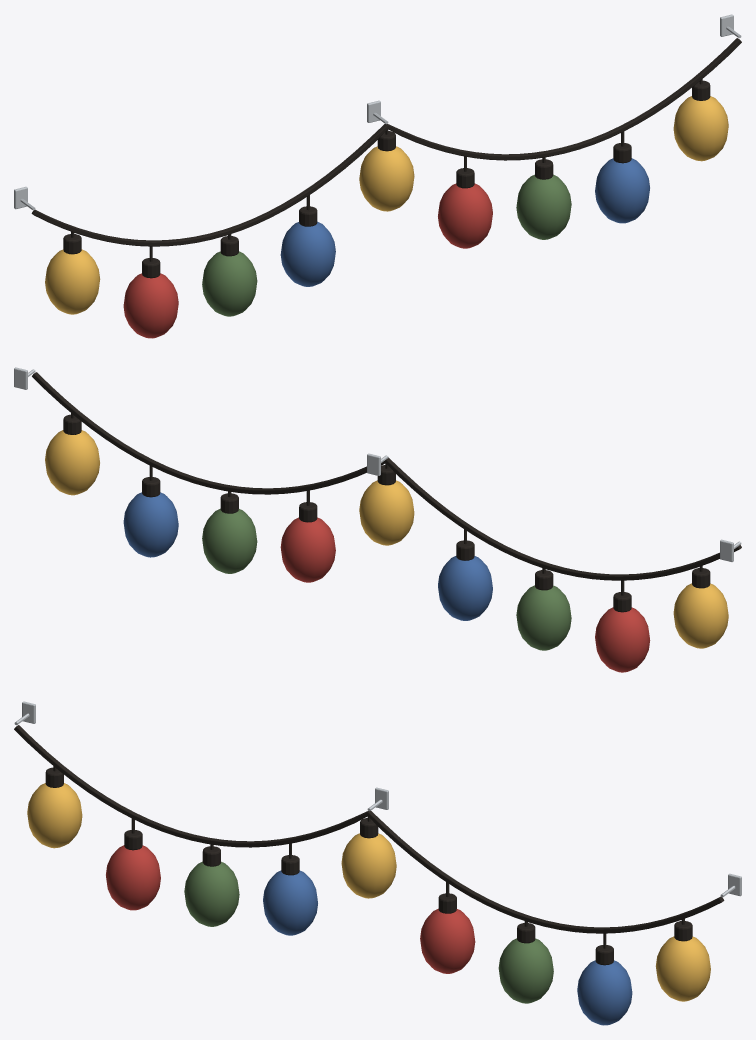
The model's file is hh_cat_string_lights.glb.
3 renders of one model, top to bottom at view 1: azimuth 30°, elevation 25°; view 2: azimuth 150°, elevation 25°; view 3: azimuth 330°, elevation 25°, orthographic.
Parts seen in each view (by area): view 1: cable, bulb.006, bulb.001, bulb.004, bulb.005, bulb.007, bulb.003, bulb.002, bulb.008, bulb; view 2: cable, bulb.004, bulb.001, bulb.002, bulb.003, bulb.008, bulb.006, bulb.007, bulb, bulb.005; view 3: cable, bulb.002, bulb.004, bulb.007, bulb.001, bulb.003, bulb.005, bulb, bulb.006, bulb.008.
Boxes of the visible parts, <box> form: cable: <box>31,38,741,246</box>; bulb.006: <box>516,174,571,239</box>; bulb.001: <box>123,273,178,338</box>; bulb.004: <box>359,146,414,211</box>; bulb.005: <box>438,183,492,248</box>; bulb.007: <box>595,158,649,223</box>; bulb.003: <box>280,221,335,286</box>; bulb.002: <box>202,251,257,316</box>; bulb.008: <box>673,96,728,161</box>; bulb: <box>45,249,100,314</box>; cable: <box>32,372,741,580</box>; bulb.004: <box>359,480,414,545</box>; bulb.001: <box>595,607,650,672</box>; bulb.002: <box>516,585,571,650</box>; bulb.003: <box>438,556,492,620</box>; bulb.008: <box>45,430,99,495</box>; bulb.006: <box>202,508,257,573</box>; bulb.007: <box>123,492,178,557</box>; bulb: <box>673,583,728,648</box>; bulb.005: <box>280,517,335,582</box>; cable: <box>14,725,724,933</box>; bulb.002: <box>184,861,239,926</box>; bulb.004: <box>341,833,396,898</box>; bulb.007: <box>577,960,632,1025</box>; bulb.001: <box>106,845,160,910</box>; bulb.003: <box>263,870,317,935</box>; bulb.005: <box>420,908,475,973</box>; bulb: <box>27,783,82,848</box>; bulb.006: <box>498,938,553,1003</box>; bulb.008: <box>655,936,710,1001</box>.
Bounding box in the file's own units: 0.9 × 0.2 × 0.06.
